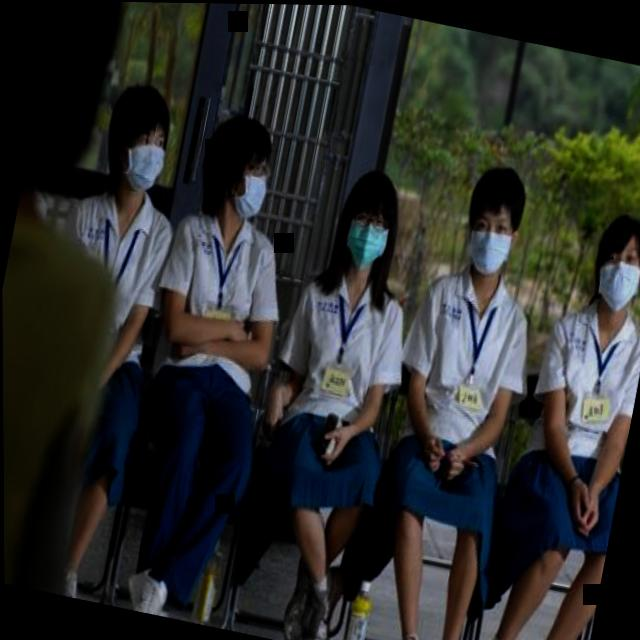Mask: (183, 104, 285, 236), (93, 75, 186, 209), (323, 160, 411, 284), (455, 159, 533, 279), (584, 206, 640, 317)
